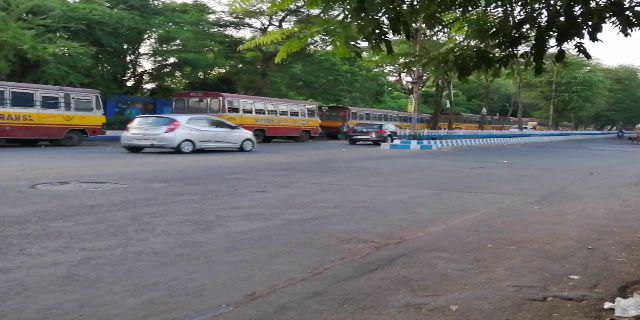Bus: (173, 89, 330, 145), (1, 81, 109, 151)
Car: (118, 108, 258, 160), (346, 118, 395, 149)
